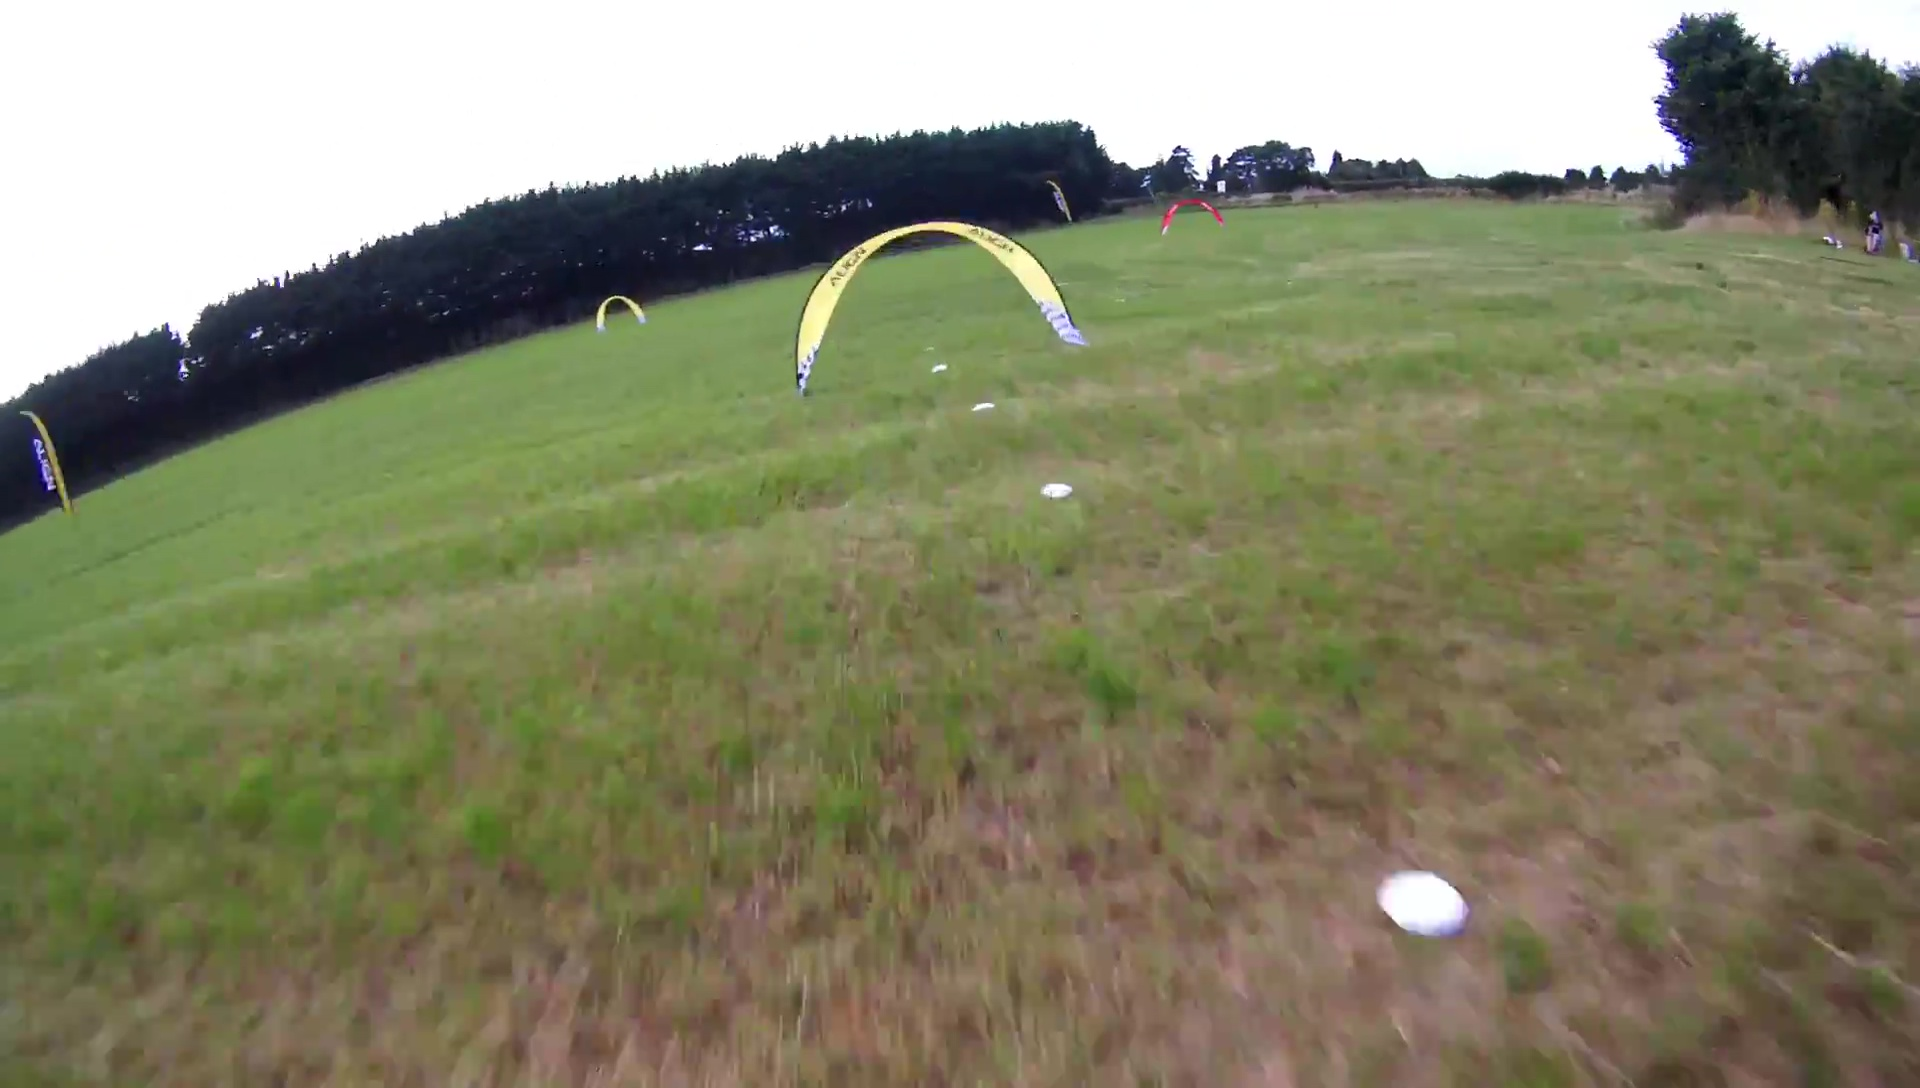gate: (794, 222, 1091, 400), (1158, 194, 1225, 233), (593, 291, 647, 334)
